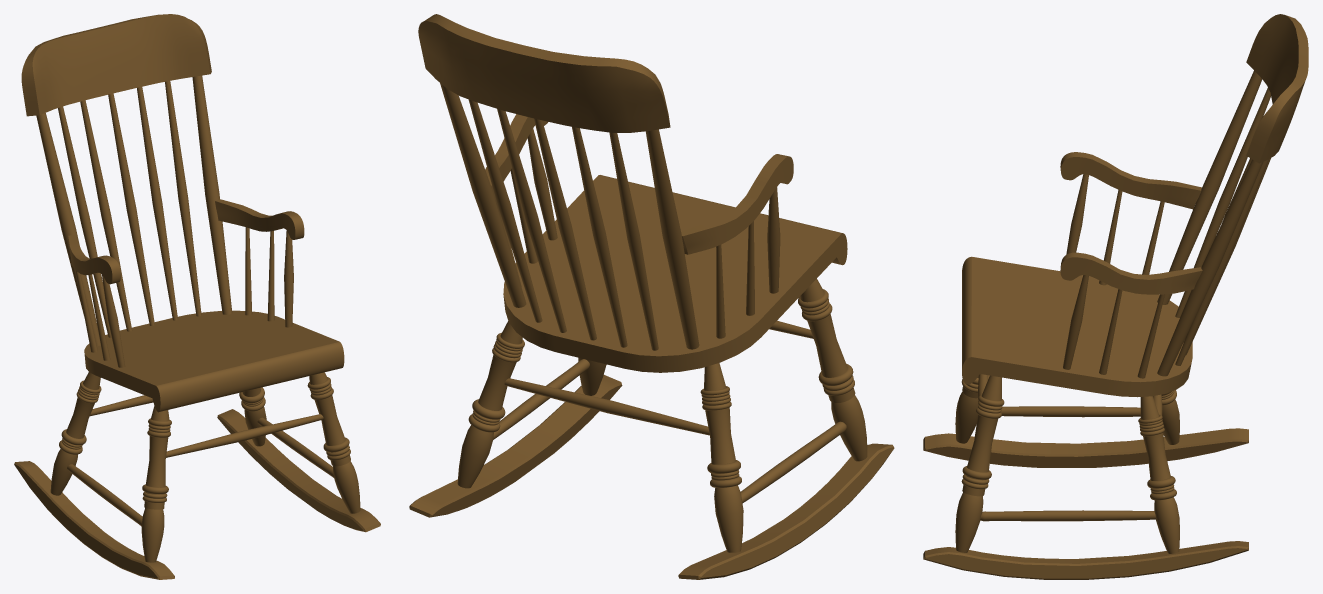
The picture shows the model from 3 angles, left to right: view 1: azimuth 30°, elevation 25°; view 2: azimuth 150°, elevation 25°; view 3: azimuth 270°, elevation 25°; orthographic projection. The views are drawn at different scales.
Visible parts, largest first — view 1: Body; view 2: Body; view 3: Body.
Boxes of the visible parts, x1,y1,x2,y2 form: Body: (14, 14, 380, 579); Body: (409, 14, 894, 579); Body: (923, 14, 1308, 579).
Size of the model in its own units: 0.522 by 0.9234 by 0.6872.
